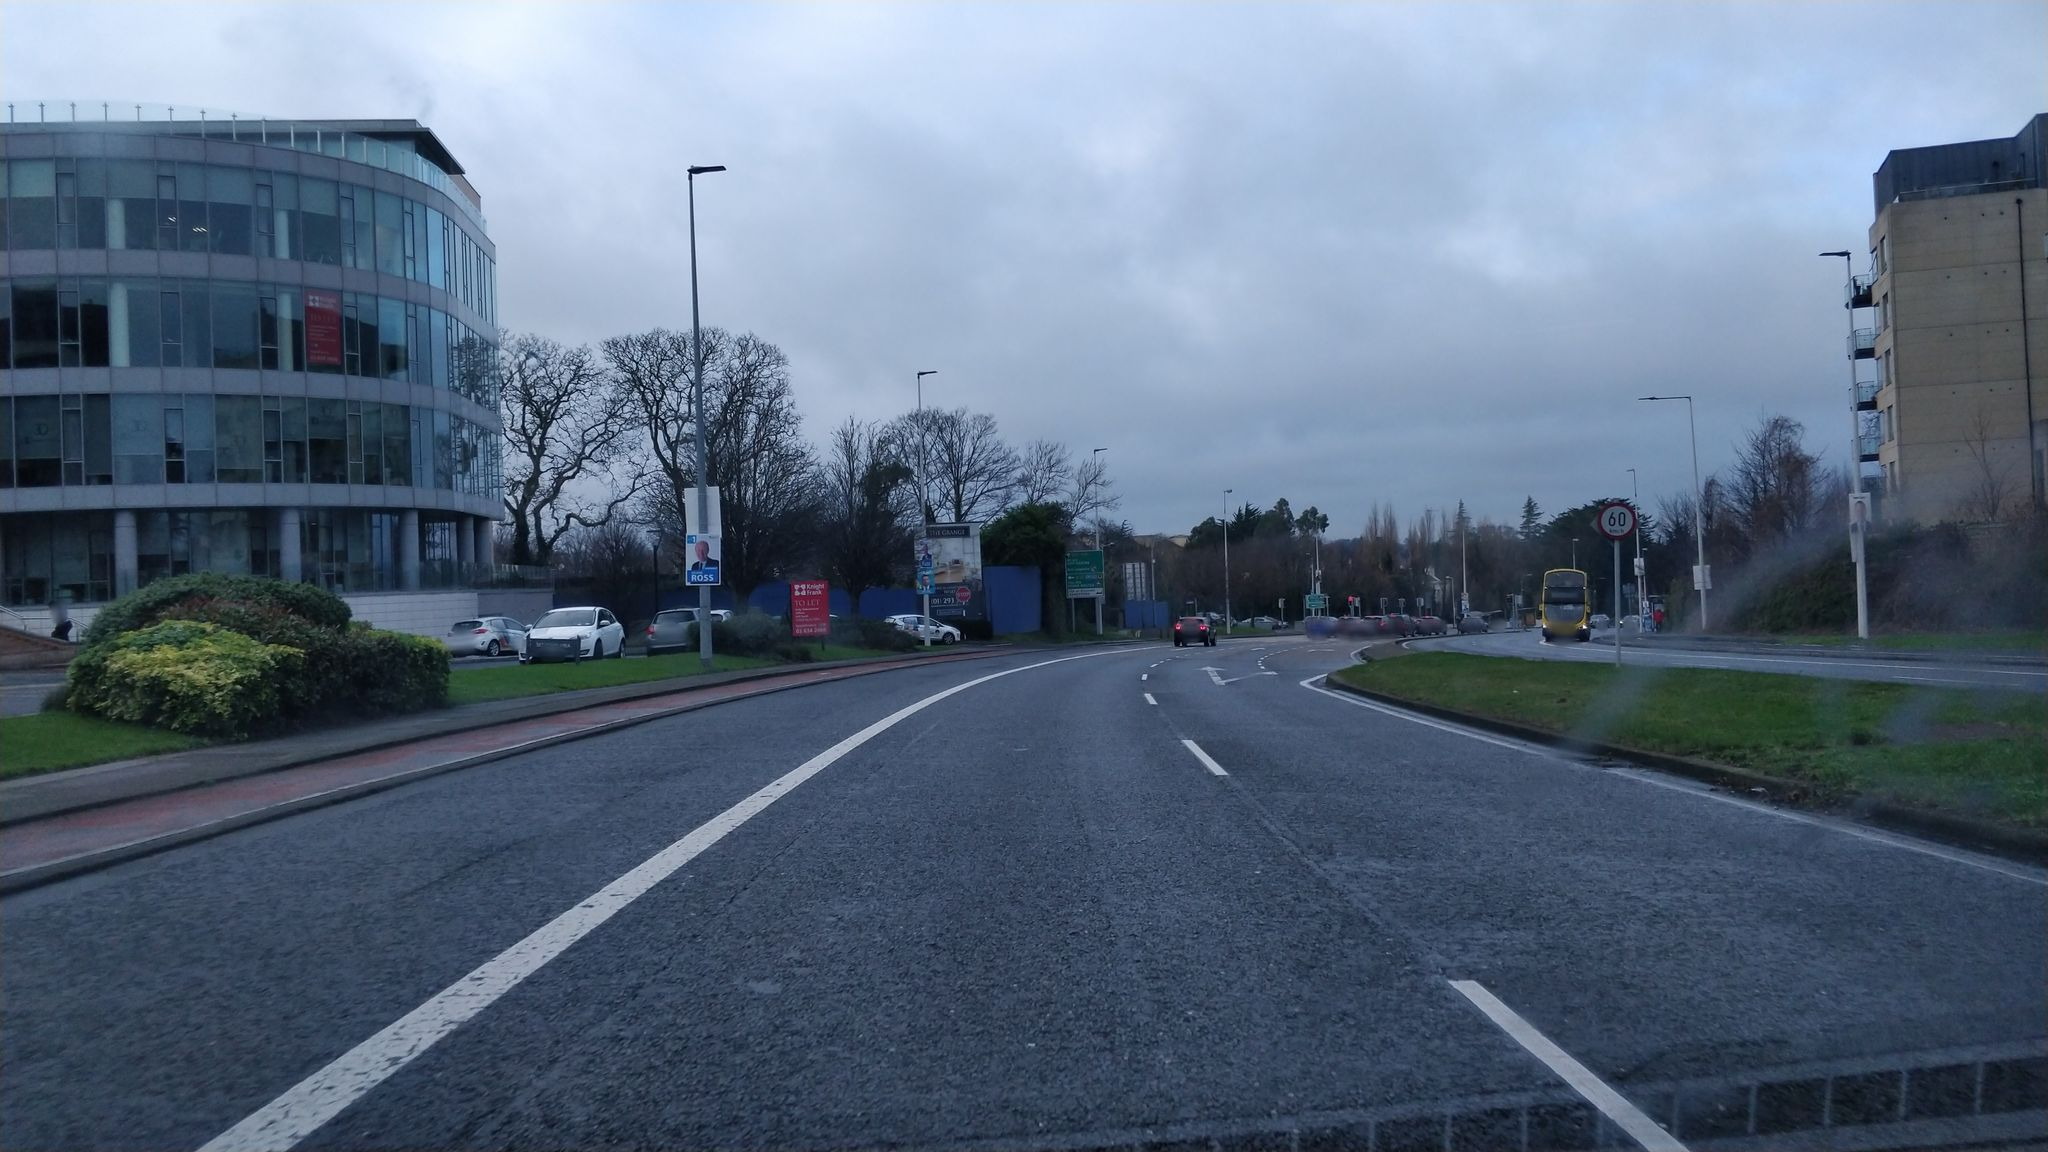property sign: (774, 563, 841, 651)
